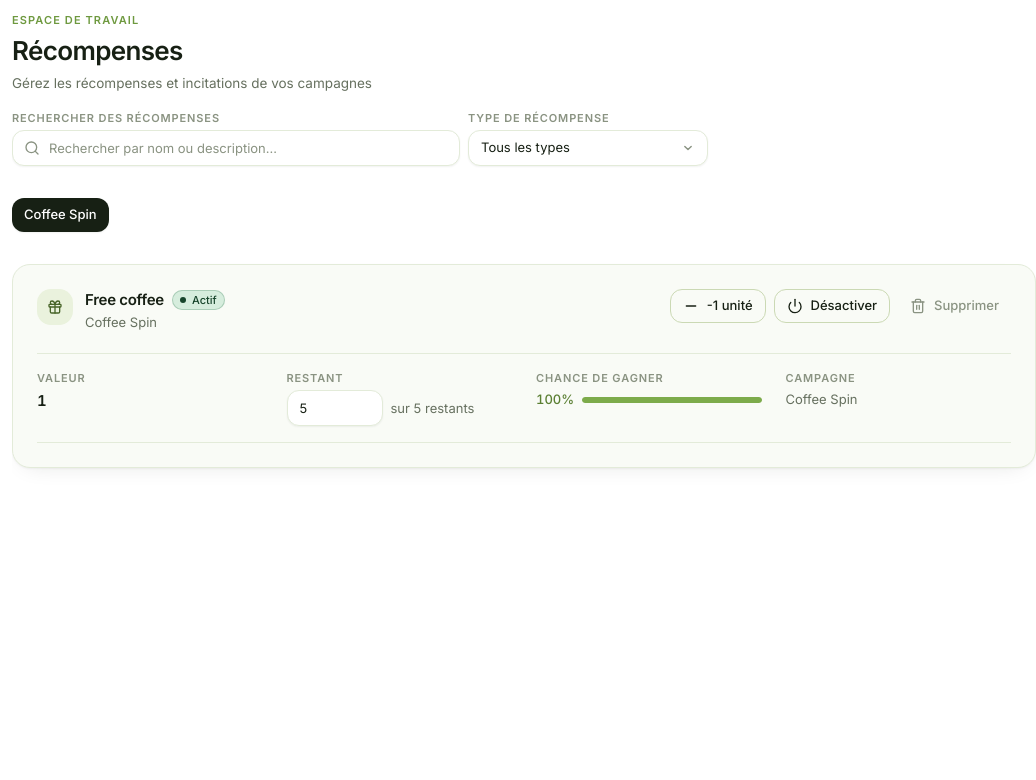
Scenario: rewards page › surfaces the API error and keeps the row when the delete fails
Check: the heading "Free coffee" is shown, box [85, 289, 164, 311]
Click the button with aria-label "Supprimer la récompense Free coffee" at x=955, y=306, box [898, 289, 1011, 323]
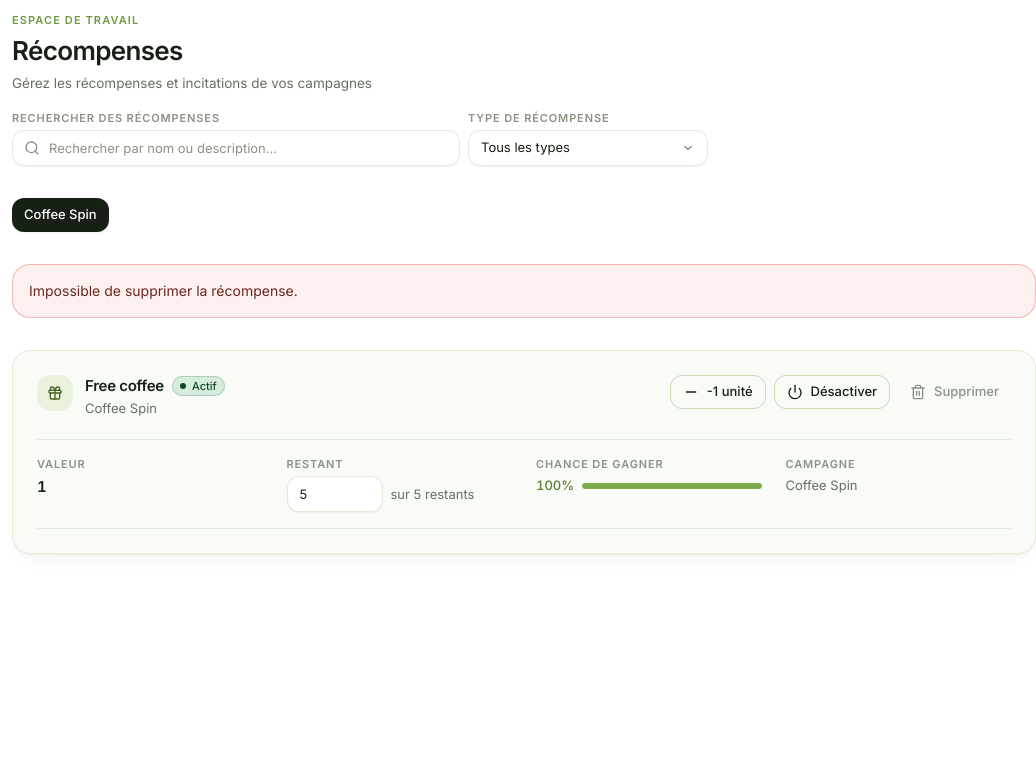
Check: the heading "Free coffee" is shown, box [85, 375, 164, 397]
Check: the text "Impossible de supprimer la récompense." is shown, box [12, 264, 1035, 318]
